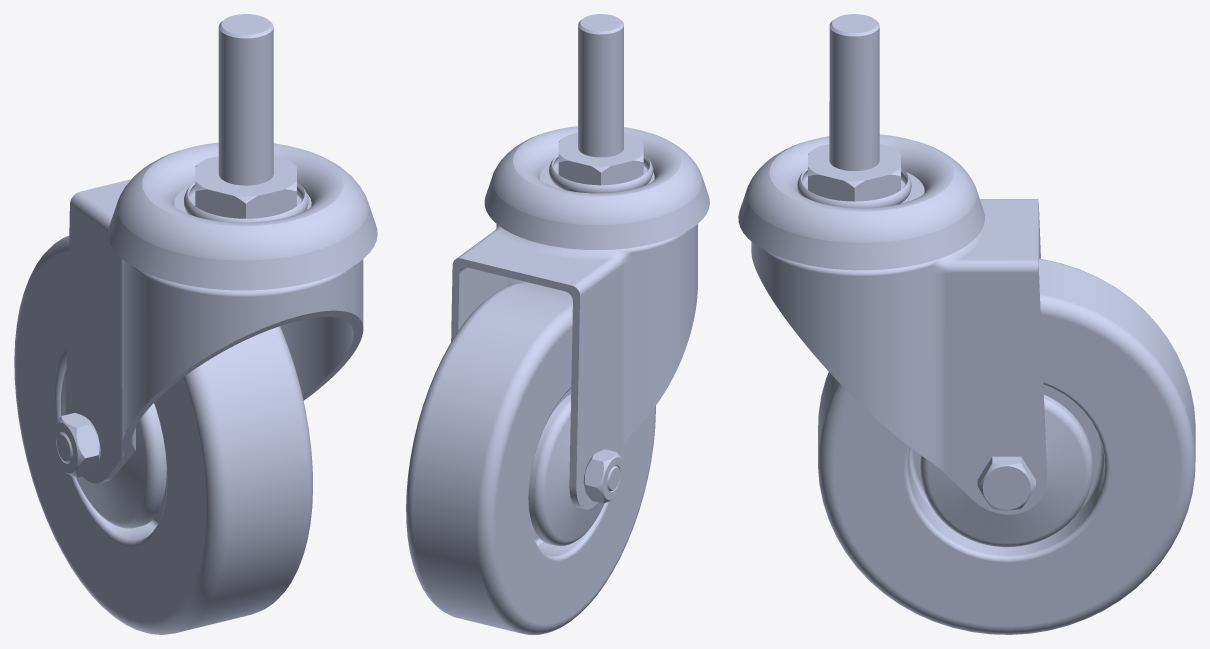
The model's file is front_right_wheel.dae.
3 renders of one model, left to right at view 1: azimuth 30°, elevation 25°; view 2: azimuth 150°, elevation 25°; view 3: azimuth 270°, elevation 25°, orthographic. The views are drawn at different scales.
Visible parts, largest first — view 1: Body1 (×5), __________00.STEP.STEP; view 2: Body1 (×5), __________00.STEP.STEP; view 3: Body1 (×5), __________00.STEP.STEP.
Part boxes in pixels (x1=…): Body1 (×5): x1=14, y1=14, x2=377, y2=634; __________00.STEP.STEP: x1=65, y1=179, x2=363, y2=483; Body1 (×5): x1=406, y1=14, x2=709, y2=634; __________00.STEP.STEP: x1=451, y1=224, x2=697, y2=509; Body1 (×5): x1=738, y1=14, x2=1195, y2=634; __________00.STEP.STEP: x1=751, y1=199, x2=1046, y2=514.
Bounding box in the file's own units: 0.049 × 0.0908 × 0.1298.
